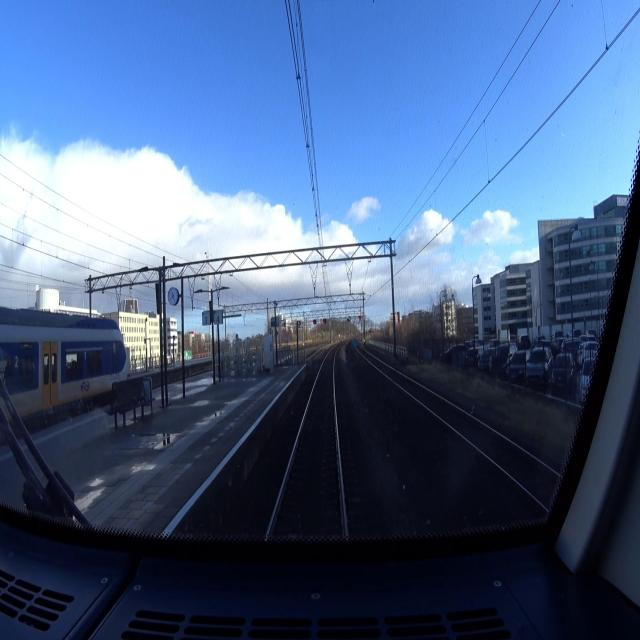rail-track: (364, 353, 558, 504), (271, 349, 345, 539)
